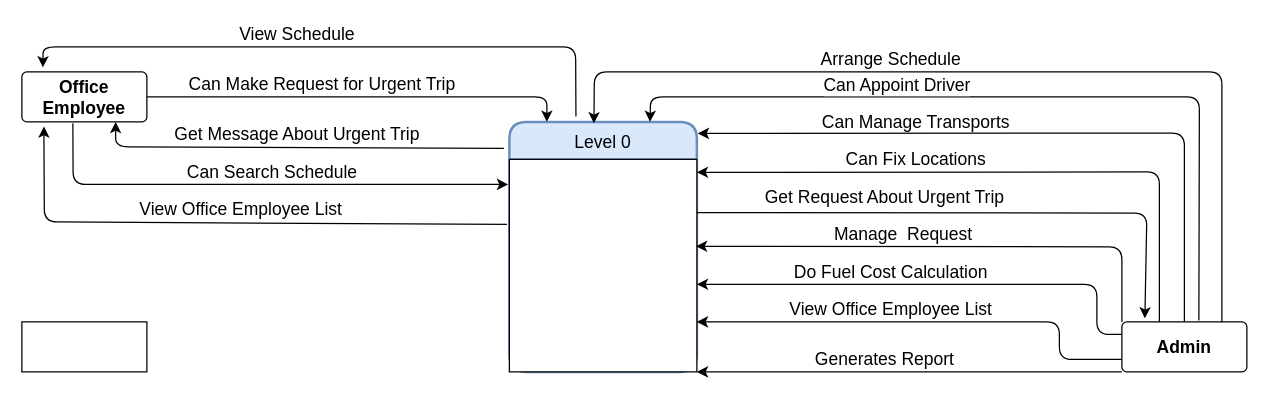
This 1269x404 diagram has some shape labels left out. The shapes that lost their labels are listed below. From the top down, each one's centre as x and y in pixels, then its label:
At (602,265): "Transport Schedule Management System for Office Employee".
At (84,346): "Driver".
